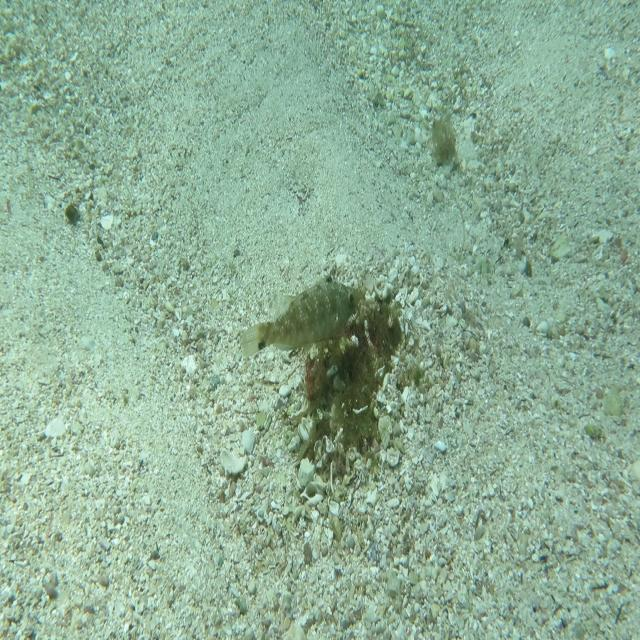FAN: (239, 268, 362, 358)
core_nest: (354, 316, 394, 355)
nest: (287, 278, 416, 491)
vegetation: (431, 116, 464, 169), (64, 199, 78, 226)
